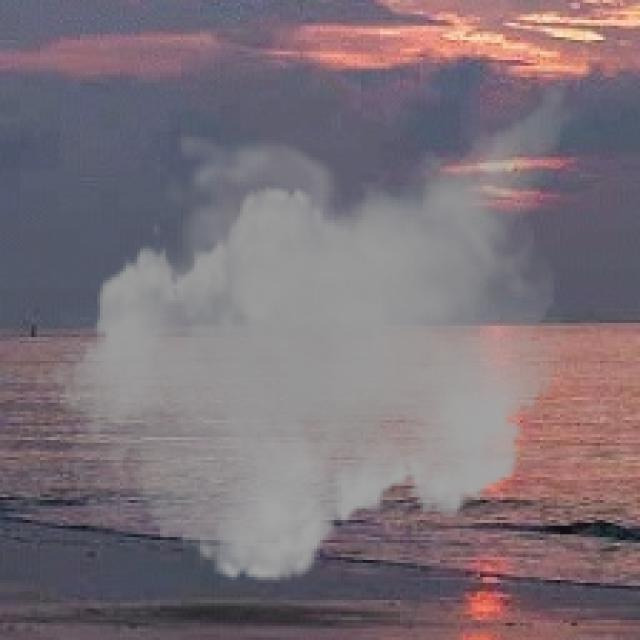smoke: (34, 46, 586, 597)
